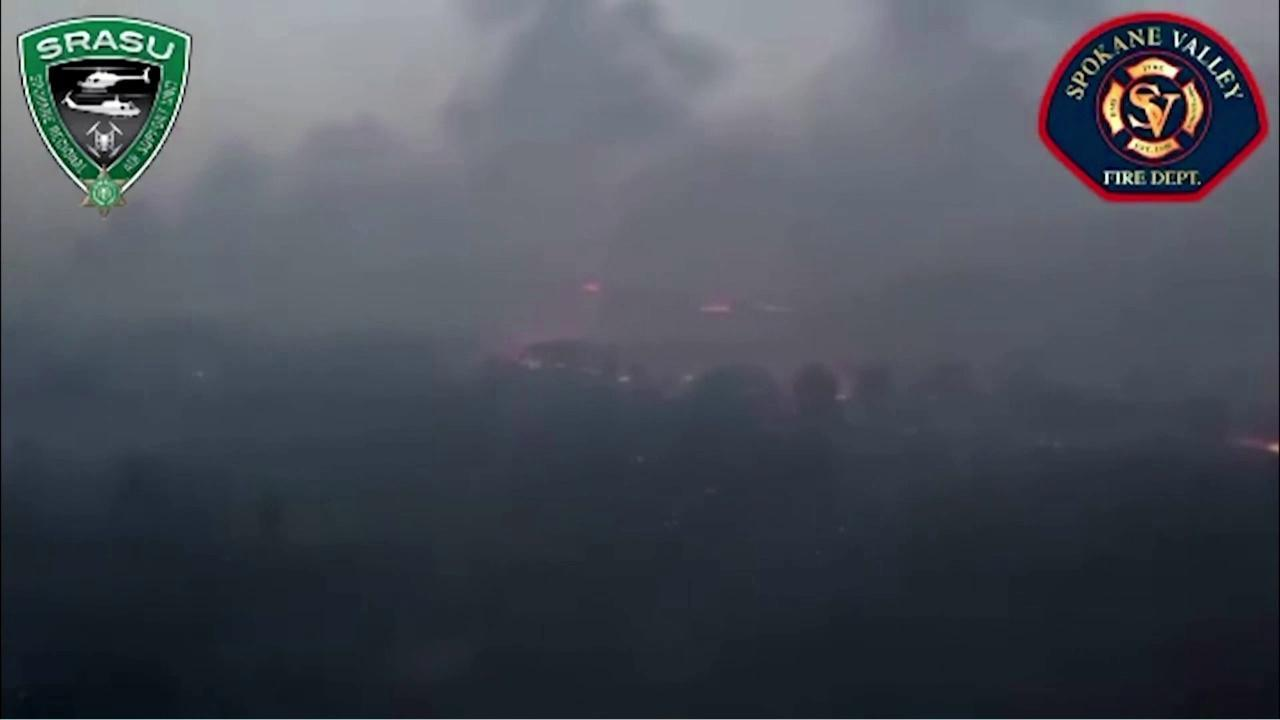fire: (1235, 432, 1280, 457), (699, 302, 732, 315), (578, 279, 601, 293), (615, 369, 633, 383)
smoke: (3, 0, 1280, 717)
